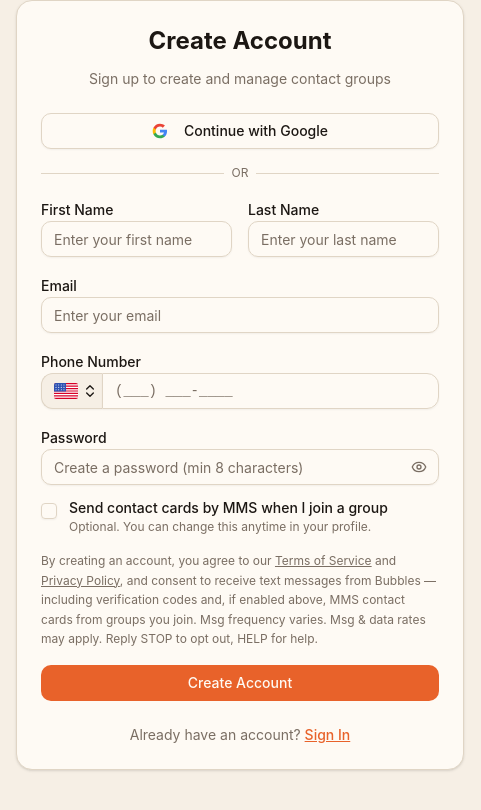
Test case: AuthForm › Sign Up Mode › shows validation errors for weak password
In the field labelled "First Name": (136, 239) [41,221,232,257], type "John"
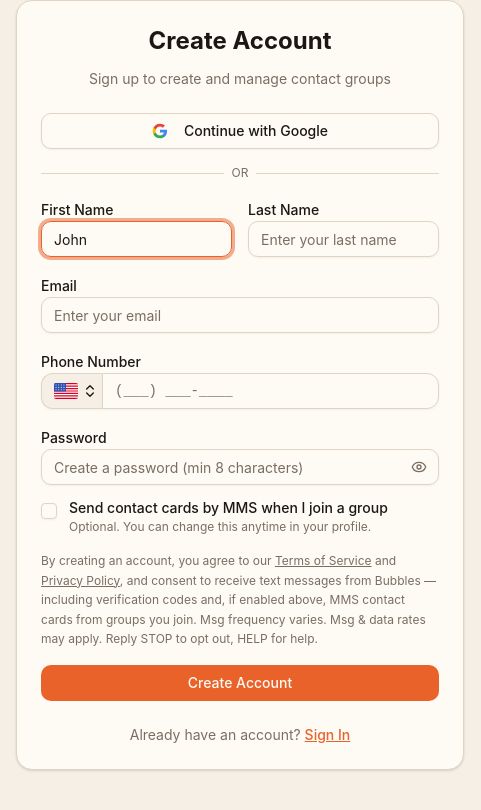
In the field labelled "Last Name": (344, 239) [248,221,439,257], type "Doe"
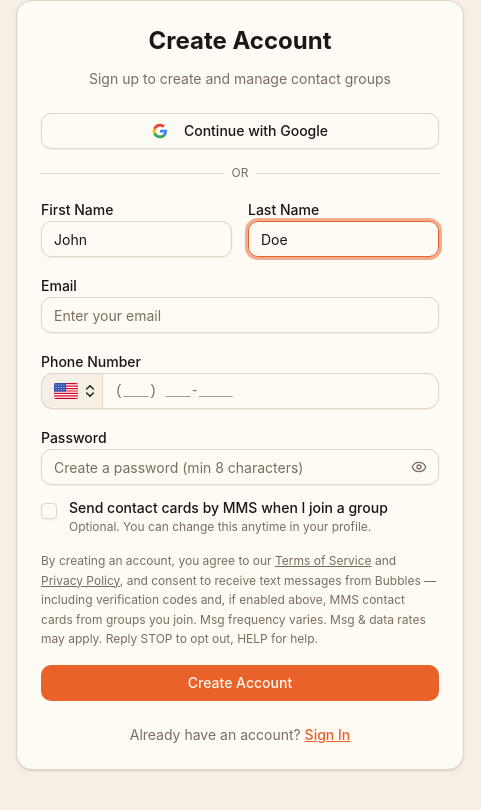
In the field labelled "Email": (240, 315) [41,297,439,333], type "test@example.com"
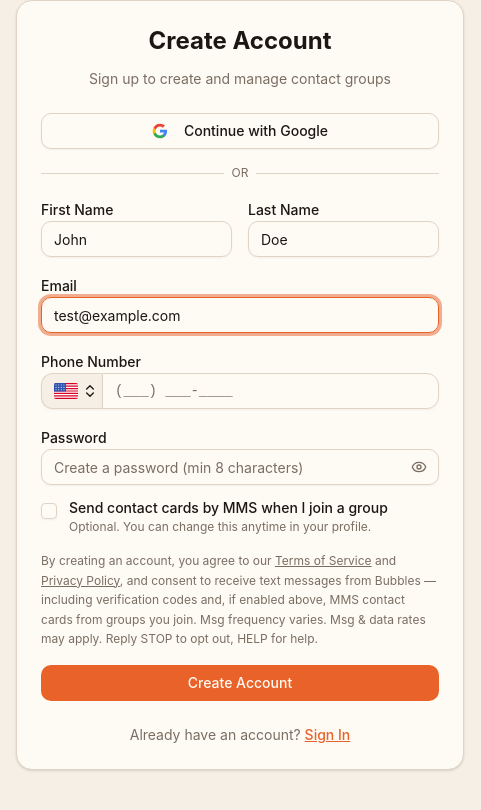
In the password field labelled "Password": (240, 467) [41,449,439,485], type "123"
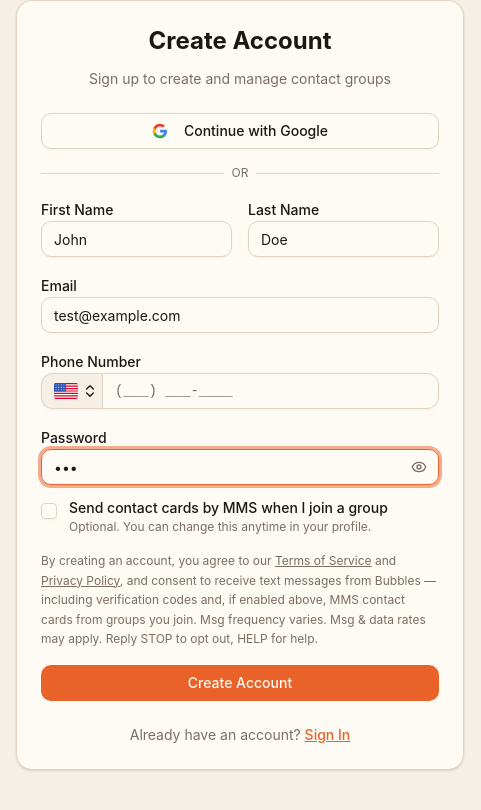
Click the button "Create Account": (240, 682) [41,664,439,700]
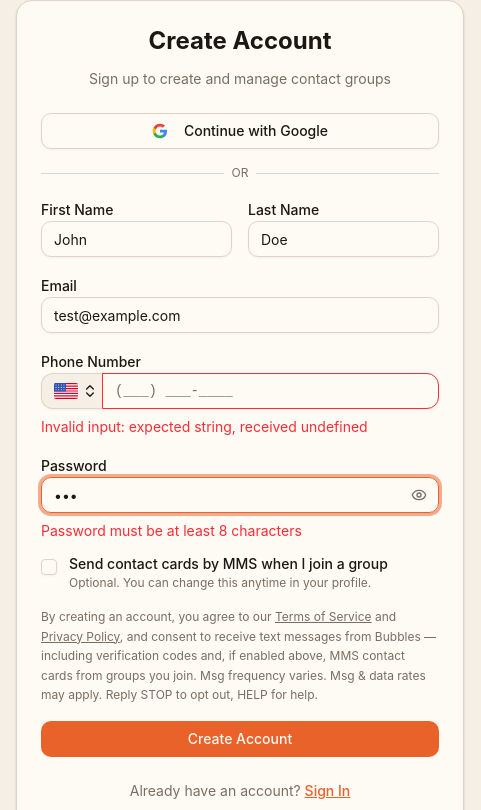
Expected: the text "Password must be at least 8 characters" is shown, [41,522,302,539]
